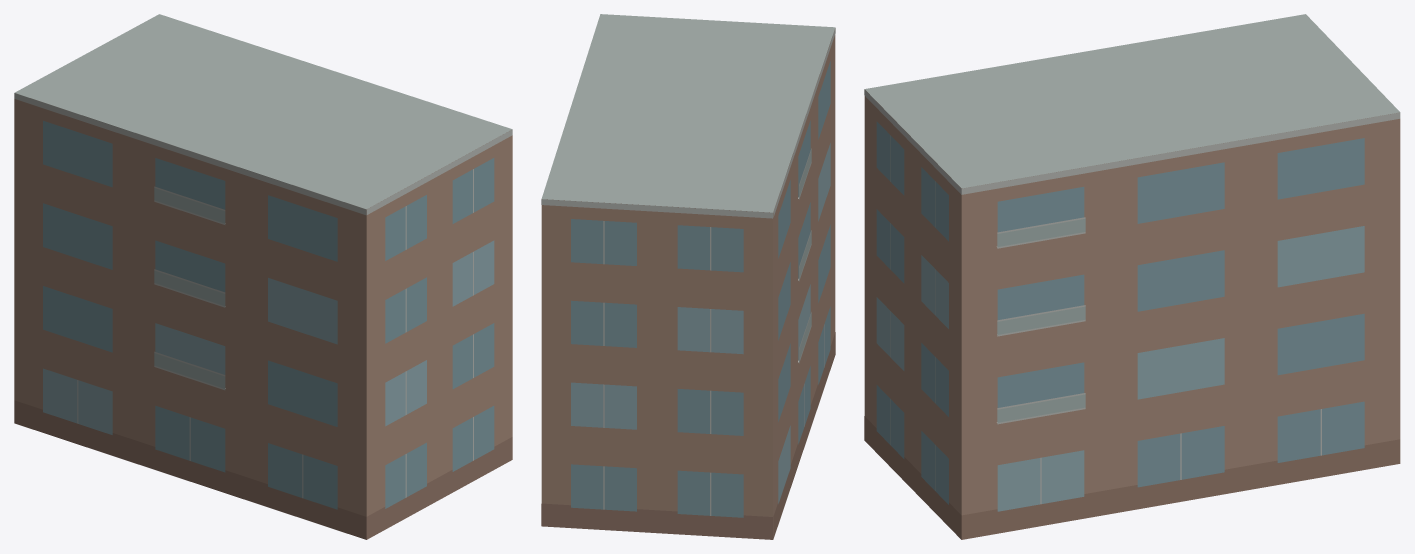
Rendered from survey-upis-32851358.glb.
3 views of the same model, side by side, from view 1: azimuth 30°, elevation 25°; view 2: azimuth 150°, elevation 25°; view 3: azimuth 270°, elevation 25° (orthographic). The views are drawn at different scales.
Parts seen in each view (by area): view 1: survey-upis-32851358.tmp; view 2: survey-upis-32851358.tmp; view 3: survey-upis-32851358.tmp.
Part boxes in pixels (box(x1,y1,x2,y2)): survey-upis-32851358.tmp: box(14, 14, 512, 539); survey-upis-32851358.tmp: box(541, 14, 835, 539); survey-upis-32851358.tmp: box(864, 14, 1400, 539).
Bounding box in the file's own units: 14.39 × 13.5 × 18.67.
